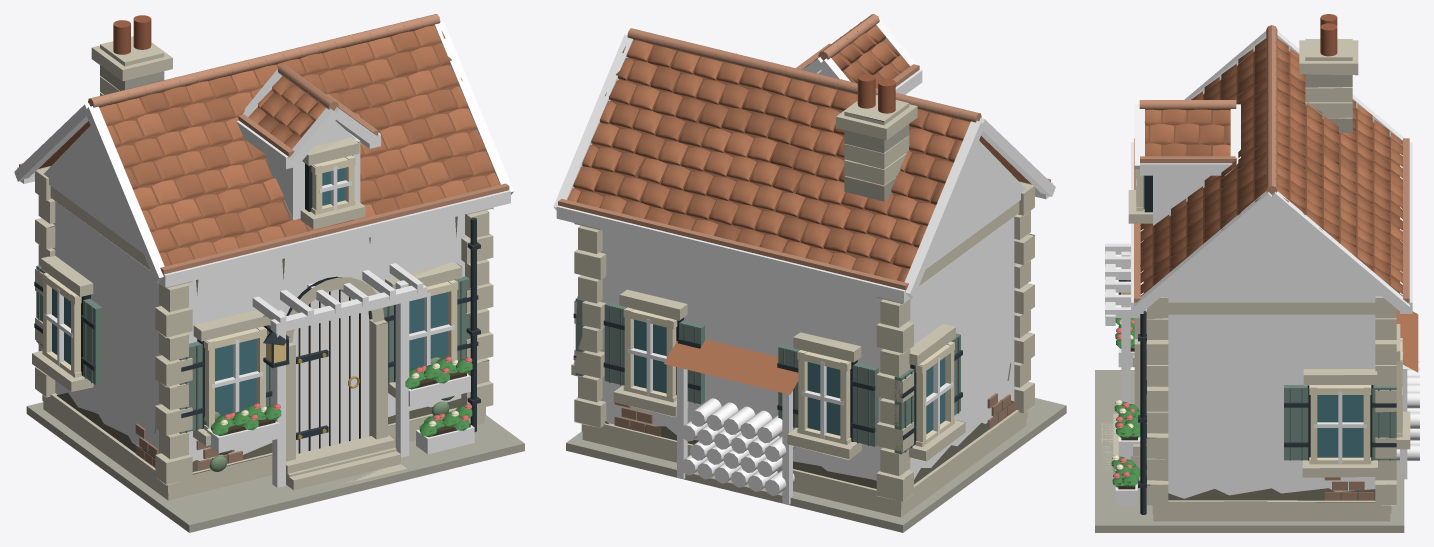
Rendered from garden_house_clay.glb.
The picture shows the model from 3 angles, left to right: view 1: azimuth 30°, elevation 25°; view 2: azimuth 150°, elevation 25°; view 3: azimuth 270°, elevation 25°; orthographic projection. The views are drawn at different scales.
Visible parts, largest first — view 1: SourceMesh_00056, SourceMesh_00005, SourceMesh_00000, SourceMesh_00106, SourceMesh_00047, SourceMesh_00048, SourceMesh_00050, SourceMesh_00006, SourceMesh_00099, SourceMesh_00049, SourceMesh_00052, SourceMesh_00310 (+52 smaller); view 2: SourceMesh_00056, SourceMesh_00005, SourceMesh_00044, SourceMesh_00000, SourceMesh_00045, SourceMesh_00050, SourceMesh_00006, SourceMesh_00374, SourceMesh_00046, SourceMesh_00051, SourceMesh_00001, SourceMesh_00099 (+49 smaller); view 3: SourceMesh_00005, SourceMesh_00056, SourceMesh_00053, SourceMesh_00000, SourceMesh_00099, SourceMesh_00044, SourceMesh_00006, SourceMesh_00007, SourceMesh_00214, SourceMesh_00054, SourceMesh_00055, SourceMesh_00047 (+56 smaller).
Part boxes in pixels (bbox=[...]): SourceMesh_00056: bbox=[99, 25, 499, 266]; SourceMesh_00005: bbox=[49, 201, 467, 461]; SourceMesh_00000: bbox=[26, 402, 524, 532]; SourceMesh_00106: bbox=[292, 289, 369, 453]; SourceMesh_00047: bbox=[107, 31, 493, 264]; SourceMesh_00048: bbox=[158, 190, 510, 287]; SourceMesh_00050: bbox=[44, 126, 143, 253]; SourceMesh_00006: bbox=[42, 393, 485, 492]; SourceMesh_00099: bbox=[248, 76, 369, 148]; SourceMesh_00049: bbox=[160, 183, 509, 274]; SourceMesh_00052: bbox=[85, 106, 164, 282]; SourceMesh_00310: bbox=[395, 280, 409, 457]; SourceMesh_00056: bbox=[567, 40, 970, 282]; SourceMesh_00005: bbox=[589, 217, 1017, 480]; SourceMesh_00044: bbox=[574, 45, 962, 280]; SourceMesh_00000: bbox=[566, 398, 1066, 532]; SourceMesh_00045: bbox=[556, 205, 910, 303]; SourceMesh_00050: bbox=[926, 140, 1025, 268]; SourceMesh_00006: bbox=[581, 410, 1027, 509]; SourceMesh_00374: bbox=[664, 339, 798, 394]; SourceMesh_00046: bbox=[558, 198, 908, 290]; SourceMesh_00051: bbox=[904, 121, 983, 298]; SourceMesh_00001: bbox=[582, 419, 1026, 517]; SourceMesh_00099: bbox=[805, 25, 910, 88]; SourceMesh_00005: bbox=[1158, 314, 1385, 498]; SourceMesh_00056: bbox=[1140, 38, 1403, 296]; SourceMesh_00053: bbox=[1162, 203, 1383, 302]; SourceMesh_00000: bbox=[1095, 370, 1404, 532]; SourceMesh_00099: bbox=[1144, 109, 1230, 156]; SourceMesh_00044: bbox=[1277, 47, 1399, 293]; SourceMesh_00006: bbox=[1152, 500, 1391, 513]; SourceMesh_00007: bbox=[1168, 302, 1375, 314]; SourceMesh_00214: bbox=[1317, 395, 1363, 457]; SourceMesh_00054: bbox=[1269, 191, 1409, 313]; SourceMesh_00055: bbox=[1134, 191, 1274, 313]; SourceMesh_00047: bbox=[1143, 47, 1266, 293].
Bounding box in the file's own units: 5.29 × 5.78 × 4.41.
